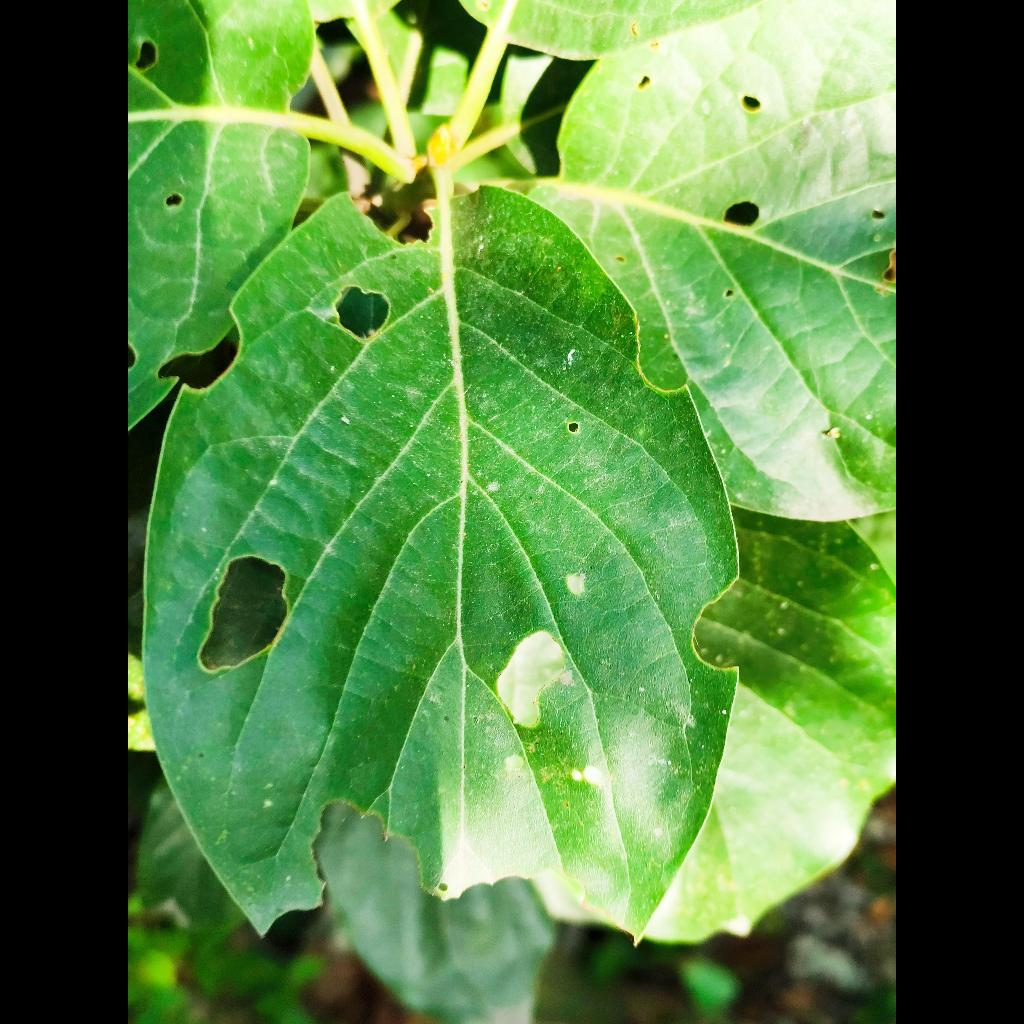Pest Infested: (145, 187, 735, 933)
